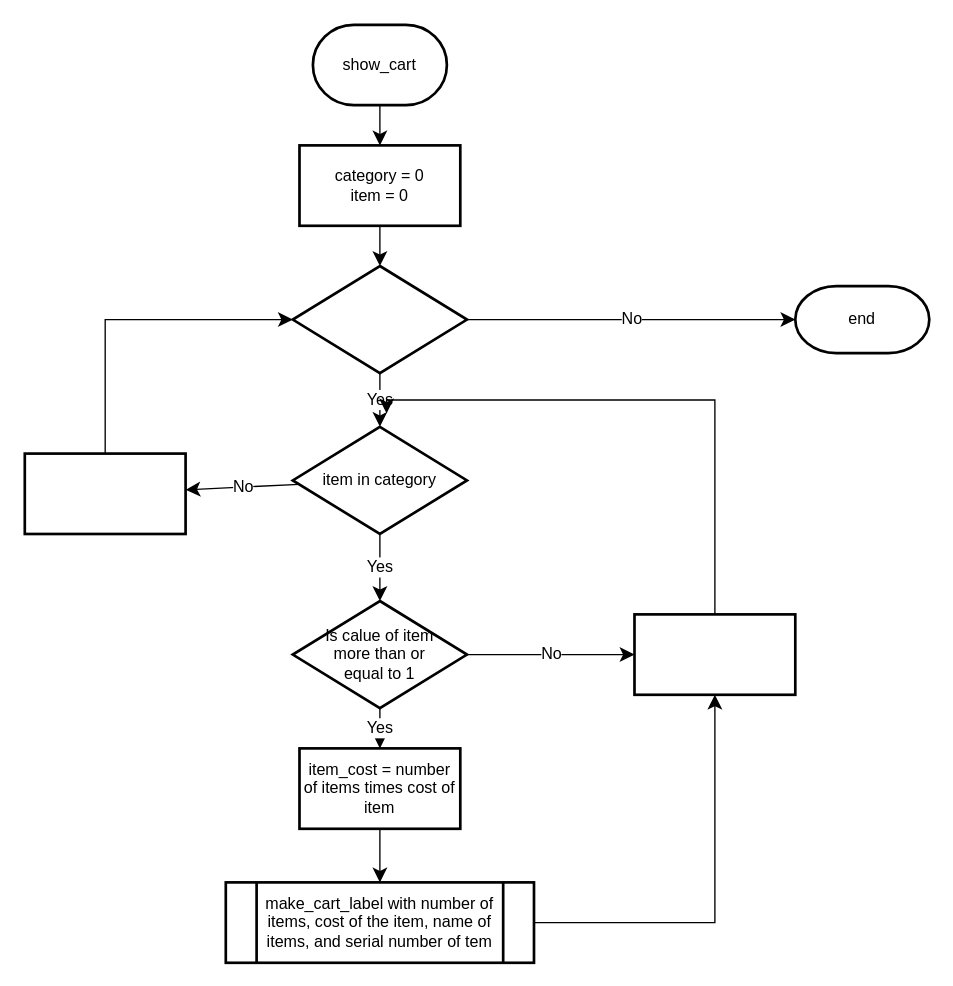
Some shapes in this 953 by 986 pixel diagram are drawn without their labels. Each missing label, with the centre of its shape:
"category in cart" belongs at point 379,319.
"increment category by 1" belongs at point 104,493.
"increment item by 1" belongs at point 714,653.
